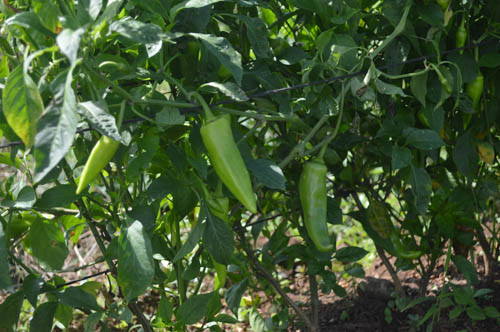ChiliPepper: (201, 115, 258, 222), (295, 159, 333, 257), (74, 134, 120, 200), (197, 200, 233, 282)
